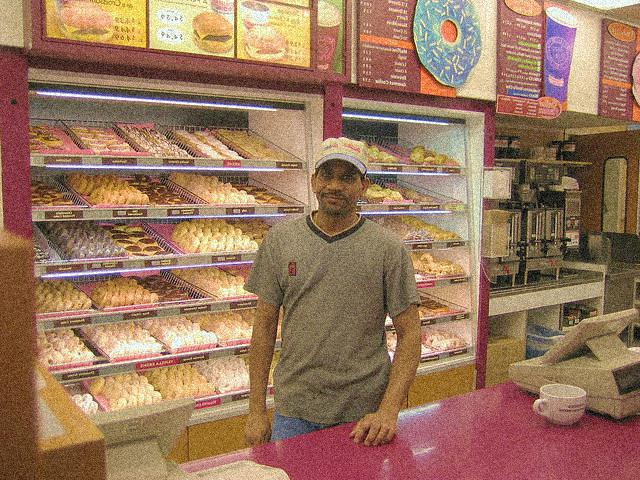Lavaplatos: (550, 240, 639, 281)
